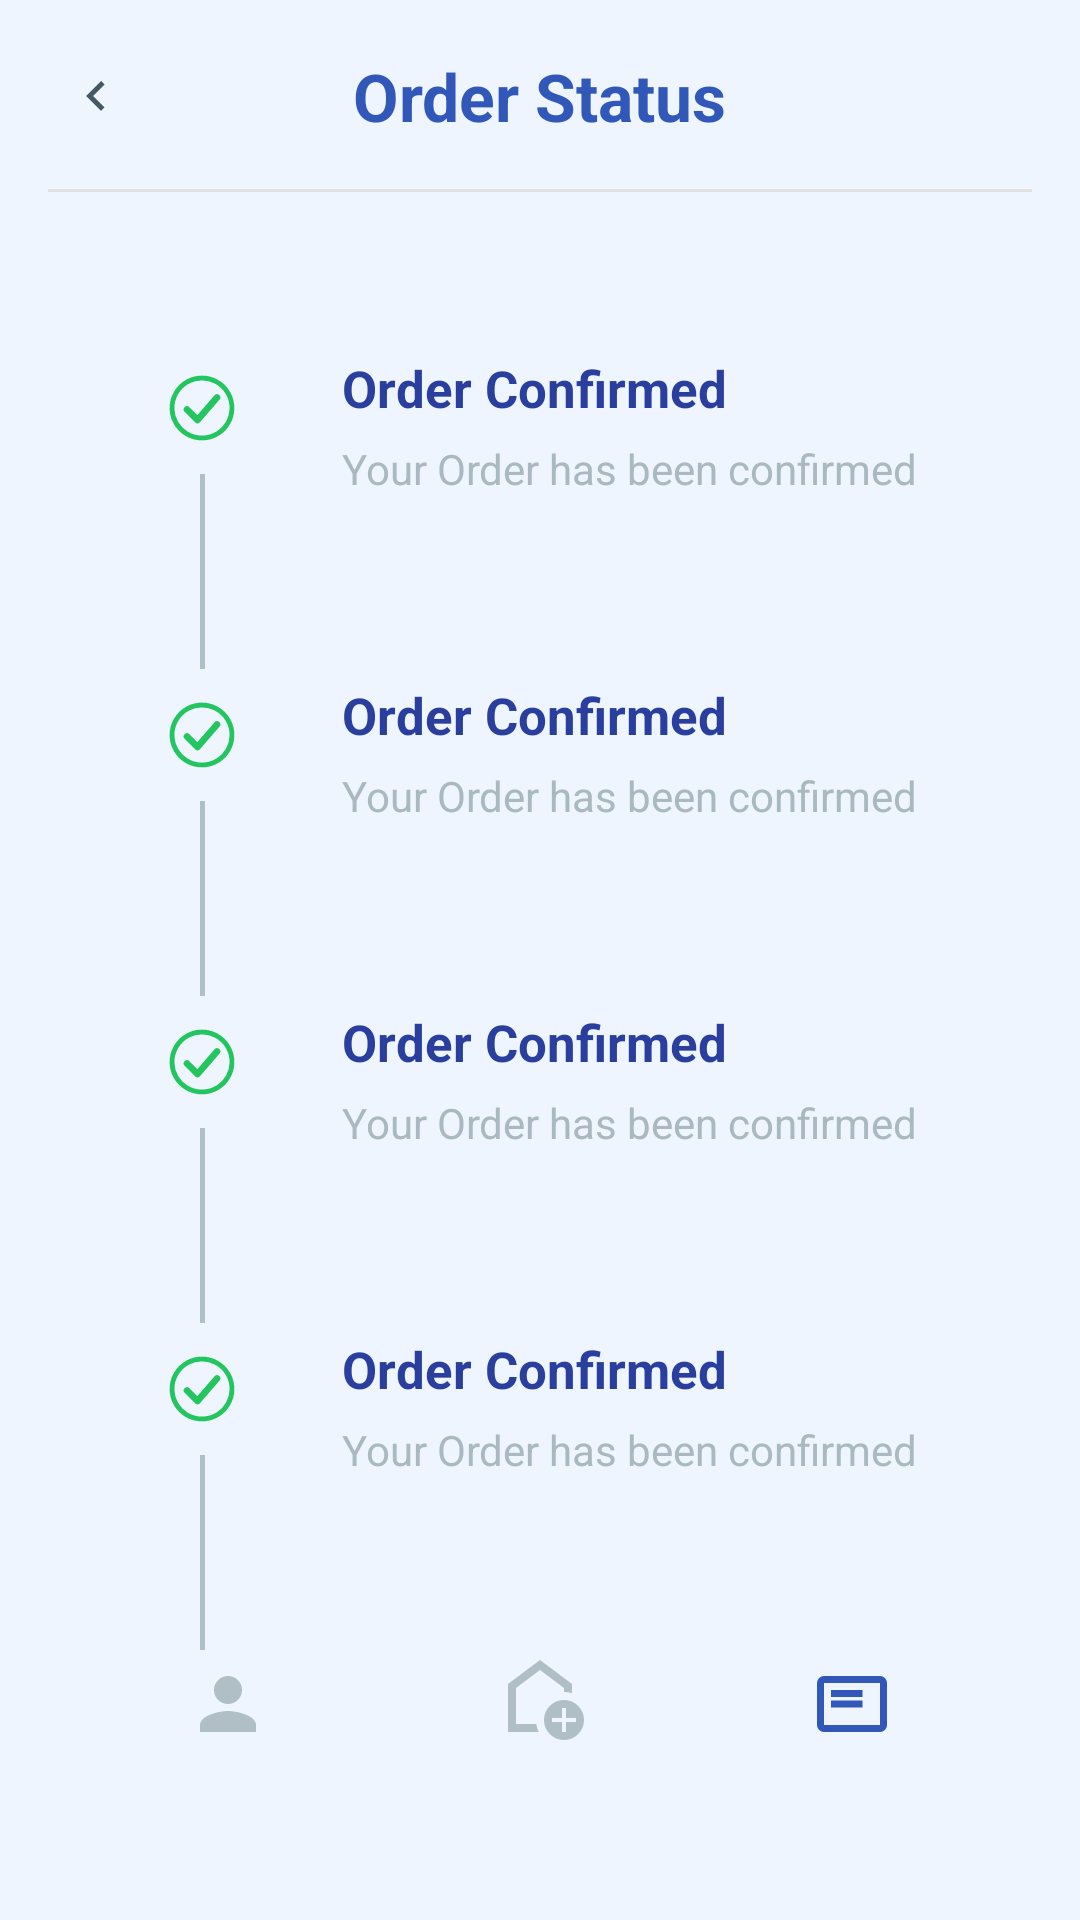

Icons on this 1080px×1920px Android screen, each with its box as (x1, y1, x2, y2):
back arrow: (86, 81, 105, 111)
check circle: (169, 375, 235, 441), (169, 702, 235, 768), (169, 1029, 235, 1095), (169, 1356, 235, 1422)
home: (508, 1660, 584, 1740)
person: (200, 1676, 256, 1732)
